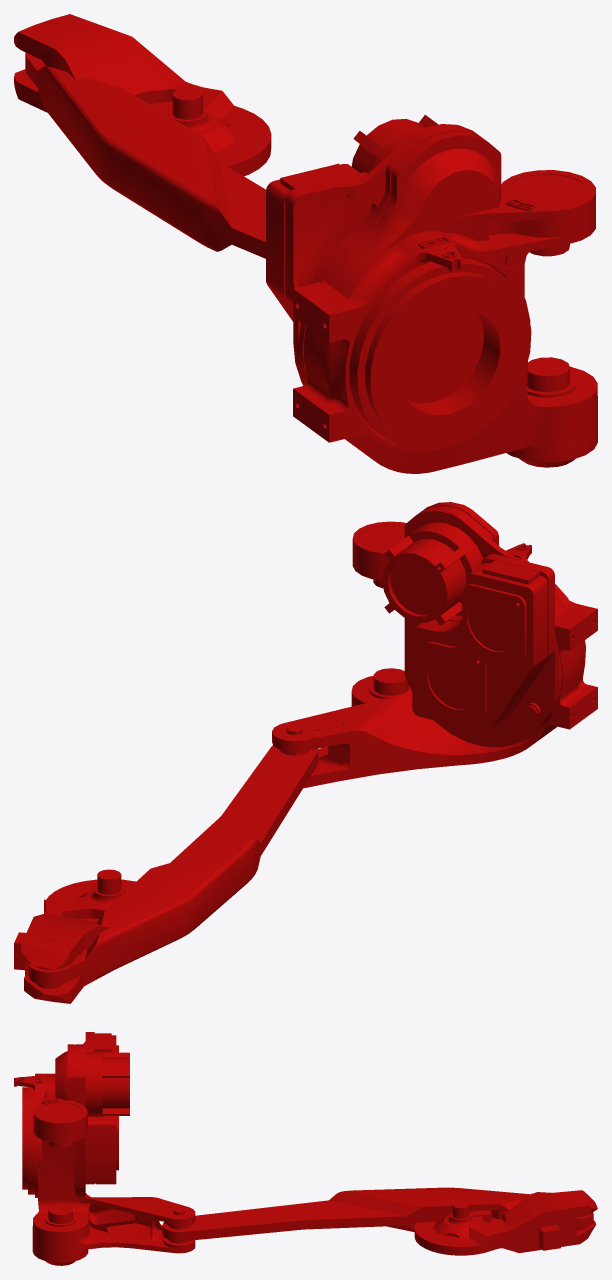
The picture shows the model from 3 angles, top to bottom: view 1: azimuth 30°, elevation 25°; view 2: azimuth 150°, elevation 25°; view 3: azimuth 270°, elevation 25°; orthographic projection. The views are drawn at different scales.
Parts seen in each view (by area): view 1: link_3; view 2: link_3; view 3: link_3.
Part boxes in pixels (left/top/right/bottom): link_3: left=14, top=14, right=597, bottom=473; link_3: left=14, top=502, right=597, bottom=1003; link_3: left=14, top=1032, right=597, bottom=1265.
Size of the model in its own units: 0.5911 by 0.6053 by 1.71.
